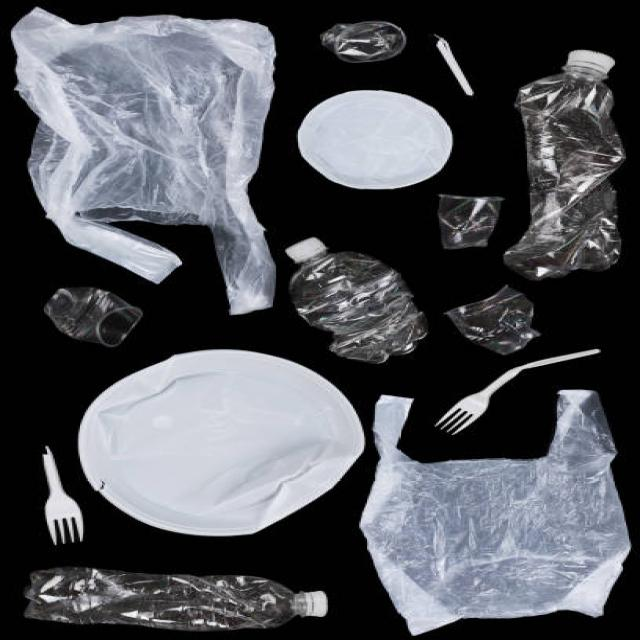plastic: (1, 3, 584, 354), (22, 362, 602, 628)
